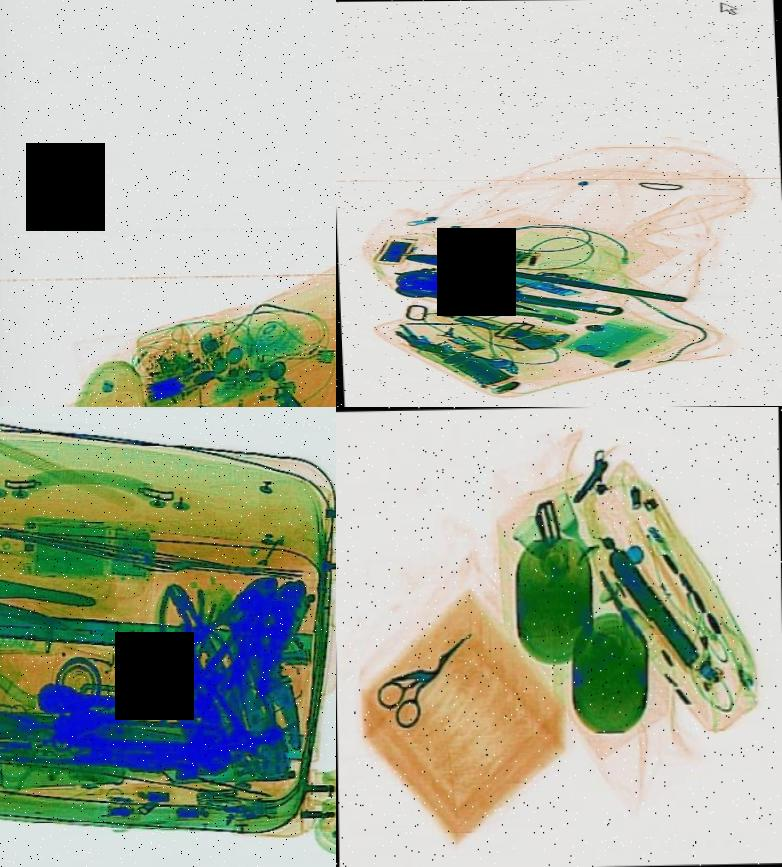Pliers: (131, 561, 290, 727), (155, 570, 242, 694), (428, 273, 597, 328)
Scissors: (367, 614, 491, 730)
Wrench: (400, 247, 688, 310)
